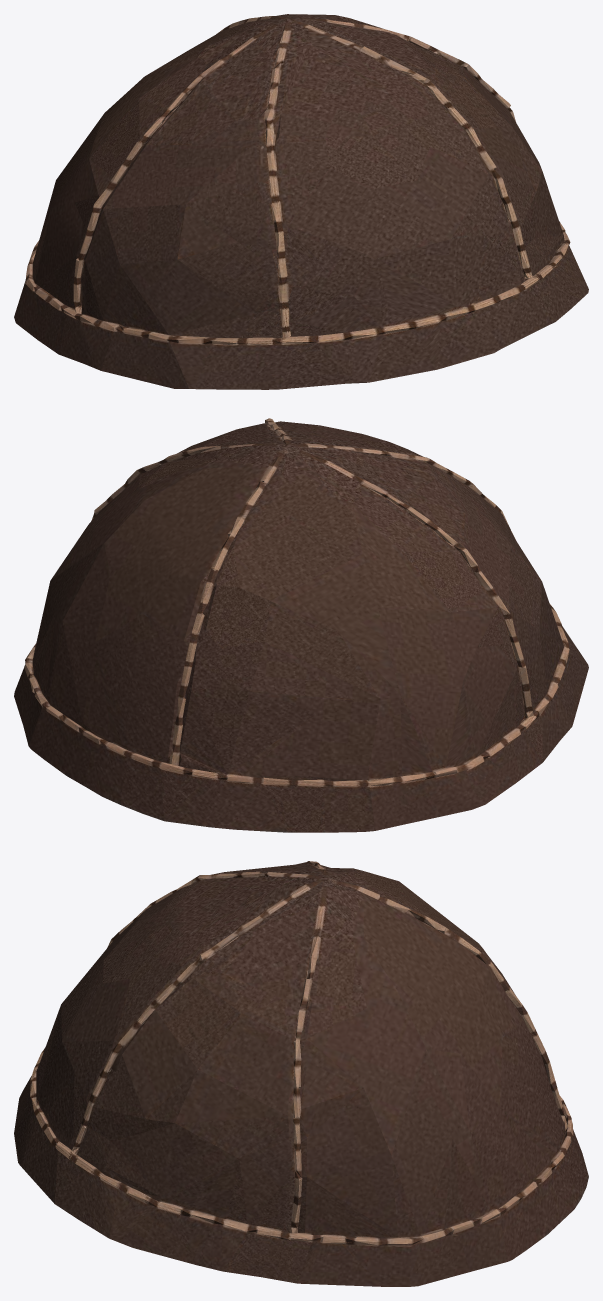
File: smith.glb
3 renders of one model, top to bottom at view 1: azimuth 30°, elevation 25°; view 2: azimuth 150°, elevation 25°; view 3: azimuth 270°, elevation 25°, orthographic. The views are drawn at different scales.
Parts seen in each view (by area): view 1: Module_occupation_smith_0; view 2: Module_occupation_smith_0; view 3: Module_occupation_smith_0.
Boxes of the visible parts, <box> form: Module_occupation_smith_0: <box>14,14,588,389</box>; Module_occupation_smith_0: <box>14,418,588,832</box>; Module_occupation_smith_0: <box>14,861,588,1286</box>.
Size of the model in its own units: 0.183 by 0.1027 by 0.1788.
Materials: 1 (1 with a texture image).
